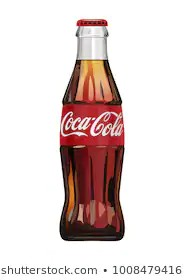coke-glass-bottle: (55, 18, 128, 242)
